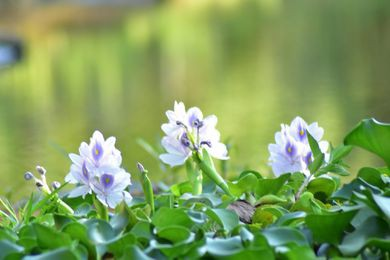water_hyacinth: (0, 100, 389, 260)
